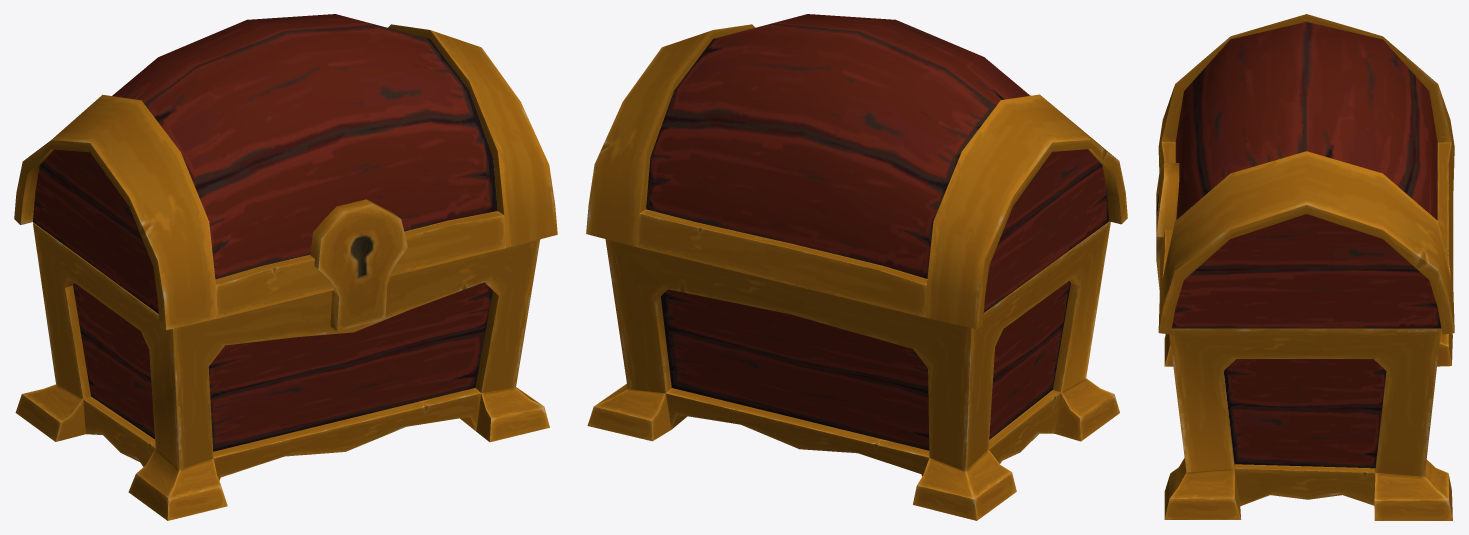
Rendered from SM_PROP_chest_city_02.fbx.
3 views of the same model, side by side, from view 1: azimuth 30°, elevation 25°; view 2: azimuth 150°, elevation 25°; view 3: azimuth 270°, elevation 25° (orthographic). The views are drawn at different scales.
Visible parts, largest first — view 1: SM_PROP_chest_top_city_02, SM_PROP_chest_city_02; view 2: SM_PROP_chest_top_city_02, SM_PROP_chest_city_02; view 3: SM_PROP_chest_top_city_02, SM_PROP_chest_city_02.
Boxes of the visible parts, bbox=[...] form: SM_PROP_chest_top_city_02: bbox=[14, 14, 557, 331]; SM_PROP_chest_city_02: bbox=[15, 222, 549, 520]; SM_PROP_chest_top_city_02: bbox=[586, 14, 1127, 329]; SM_PROP_chest_city_02: bbox=[587, 221, 1119, 520]; SM_PROP_chest_top_city_02: bbox=[1156, 14, 1454, 334]; SM_PROP_chest_city_02: bbox=[1164, 328, 1452, 520].
Size of the model in its own units: 76.41 by 72.6 by 51.8.
